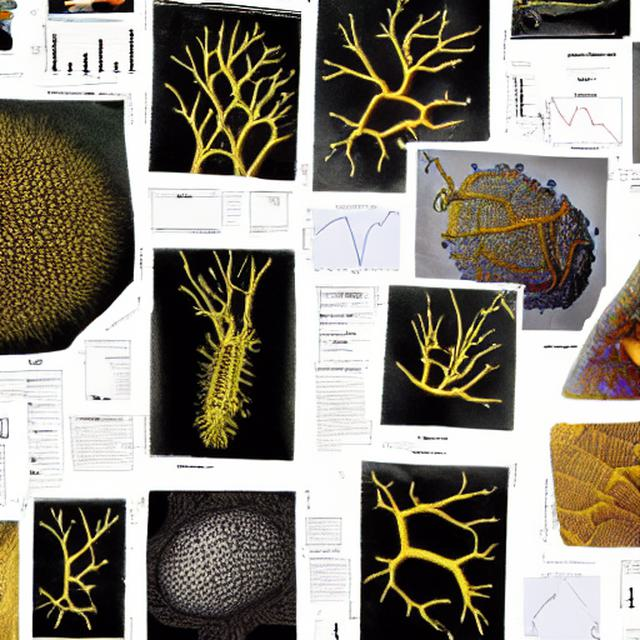Graph: (298, 195, 412, 281), (29, 17, 141, 82), (538, 85, 631, 155)
